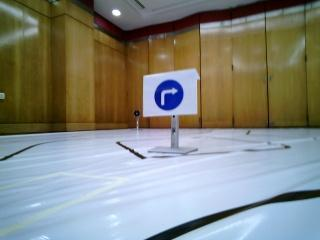right: (146, 79, 193, 115)
